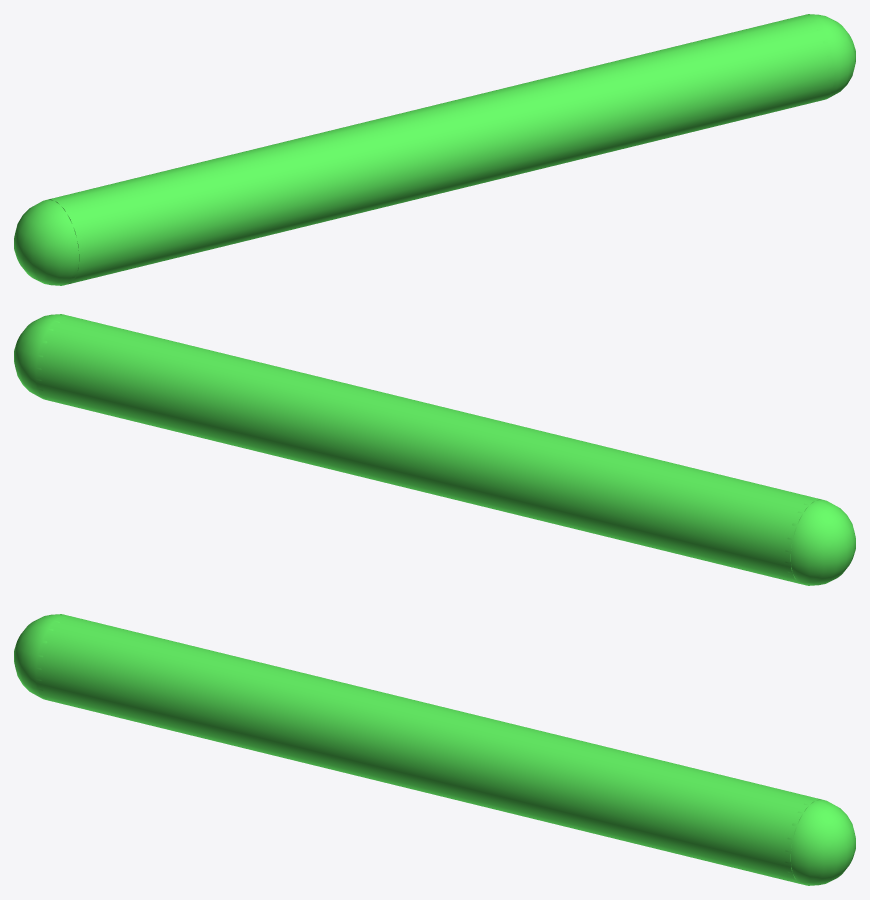
File: 17_Cl2_Stc.fbx
3 renders of one model, top to bottom at view 1: azimuth 30°, elevation 25°; view 2: azimuth 150°, elevation 25°; view 3: azimuth 330°, elevation 25°, orthographic.
Visible parts, largest first — view 1: Bond.001.002_2.002, CL.005, CL.006; view 2: Bond.001.002_2.002, CL.005, CL.006; view 3: Bond.001.002_2.002, CL.006, CL.005.
Part boxes in pixels (x1,y1,x2,y2): Bond.001.002_2.002: (49,15,834,284); CL.005: (14,198,84,285); CL.006: (798,14,855,99); Bond.001.002_2.002: (35,315,820,584); CL.005: (785,498,855,585); CL.006: (14,314,71,399); Bond.001.002_2.002: (35,615,820,884); CL.006: (785,798,855,885); CL.005: (14,614,71,699).
Size of the model in its own units: 218 by 20 by 20.
